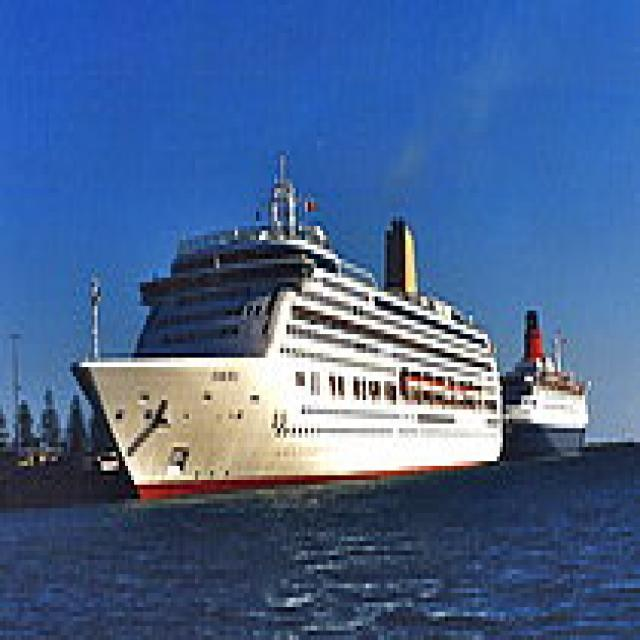Ship: (56, 128, 513, 505)
